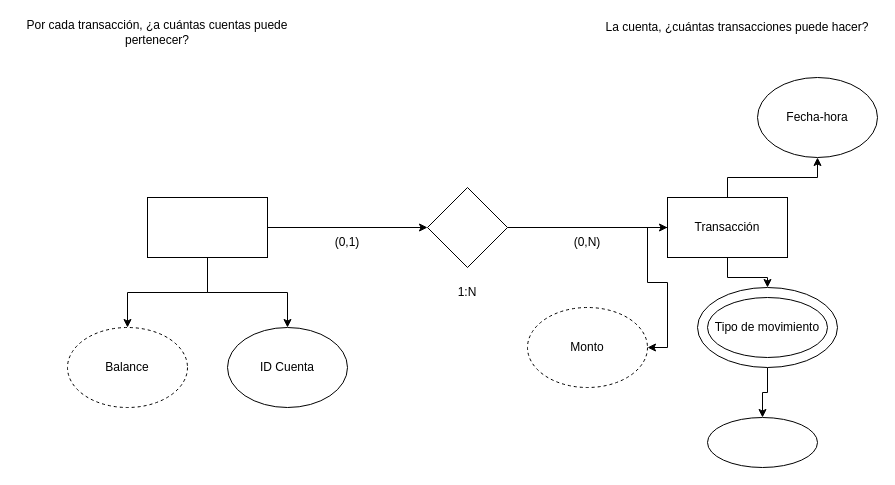
This 895x485 diagram has some shape labels left out. The centre of each missing label's shape, as x and y in pixels:
"Cuenta" belongs at pixel 207 227.
"realiza" belongs at pixel 467 227.
"Transacción Depósito Retiro" belongs at pixel 762 442.
